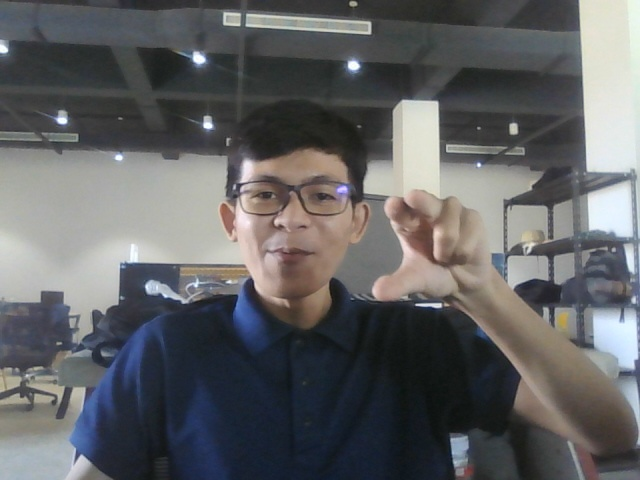no: (368, 180, 507, 339)
